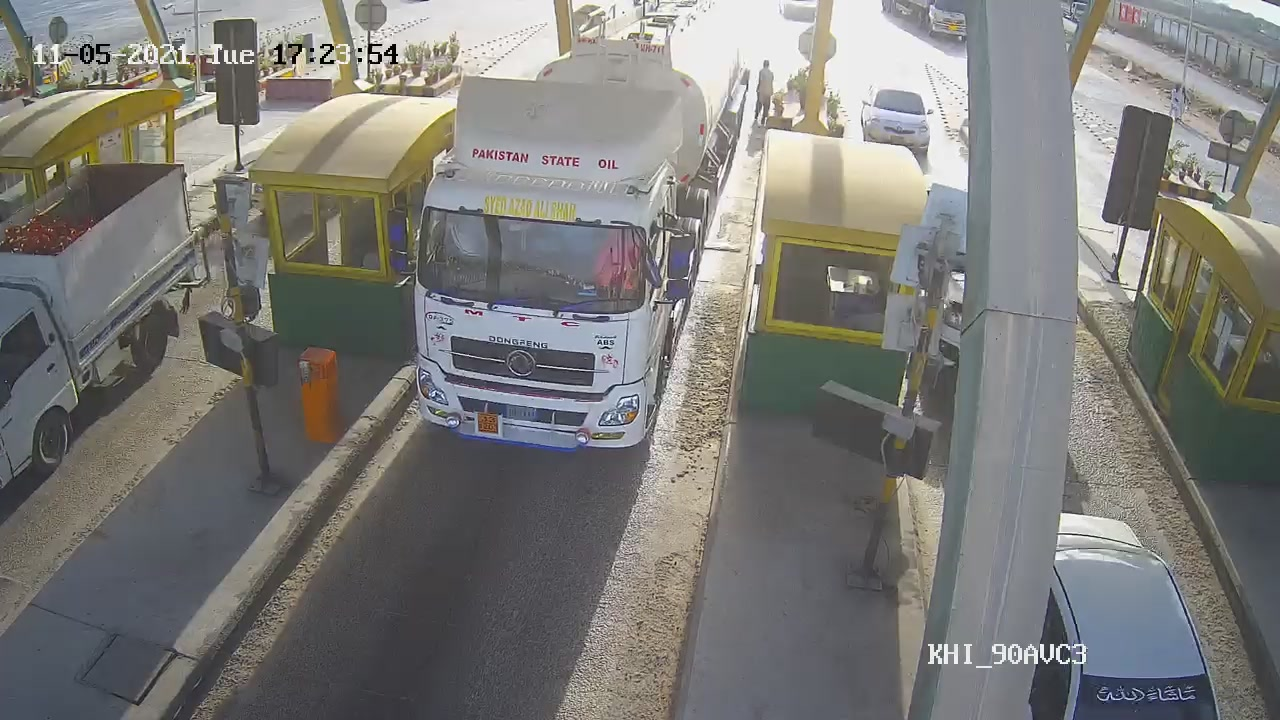F6: (402, 1, 749, 451)
